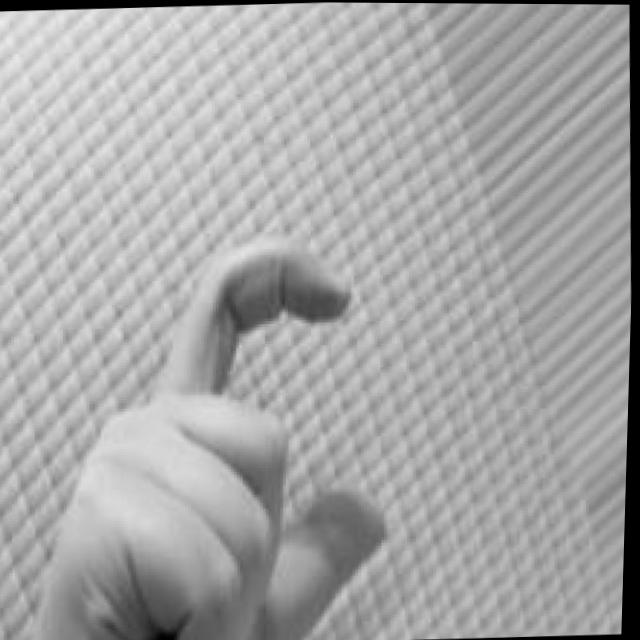C: (10, 233, 402, 640)
